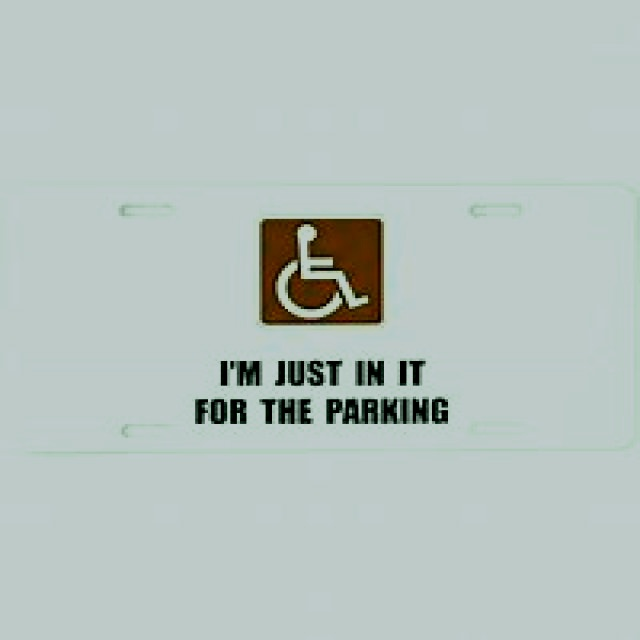ISA: (258, 219, 383, 325)
